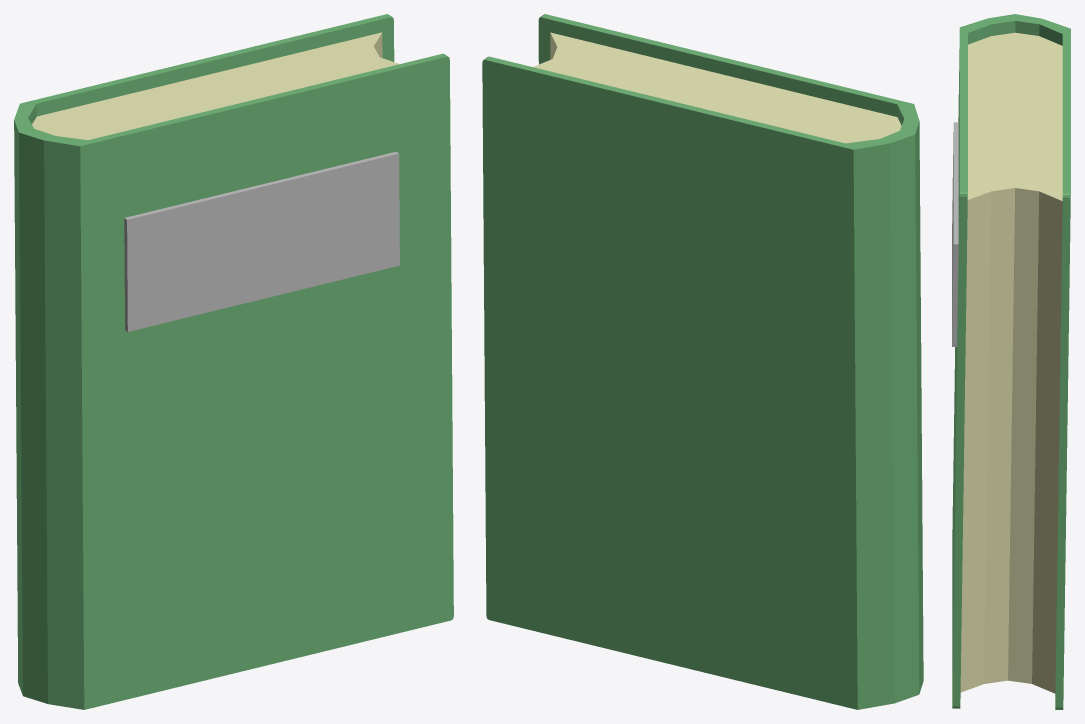
Rendered from Book_03.fbx.
The picture shows the model from 3 angles, left to right: view 1: azimuth 30°, elevation 25°; view 2: azimuth 150°, elevation 25°; view 3: azimuth 270°, elevation 25°; orthographic projection. The views are drawn at different scales.
Parts seen in each view (by area): view 1: book_03; view 2: book_03; view 3: book_03.
Part boxes in pixels (bbox=[...]): book_03: bbox=[14, 14, 453, 709]; book_03: bbox=[482, 14, 923, 709]; book_03: bbox=[952, 14, 1070, 709].
Size of the model in its own units: 22.44 by 30.07 by 6.25.
